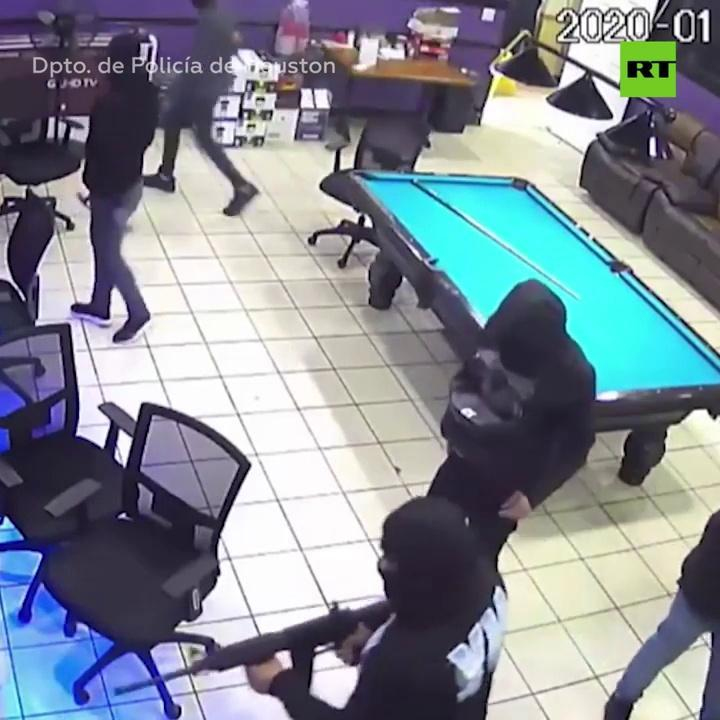Long guns: (106, 599, 386, 720)
